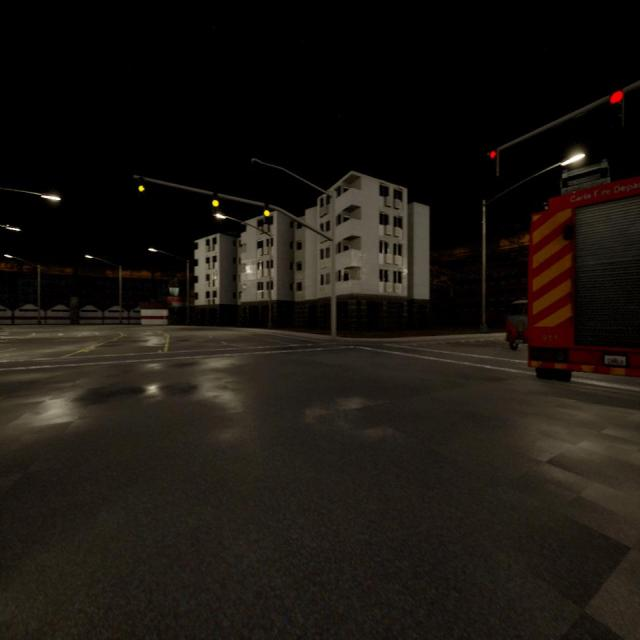Vehicle: (529, 170, 640, 379), (505, 300, 528, 350)
traffic_light: (610, 90, 624, 126), (489, 149, 498, 175), (212, 192, 219, 207), (138, 177, 144, 192), (264, 203, 270, 217)
